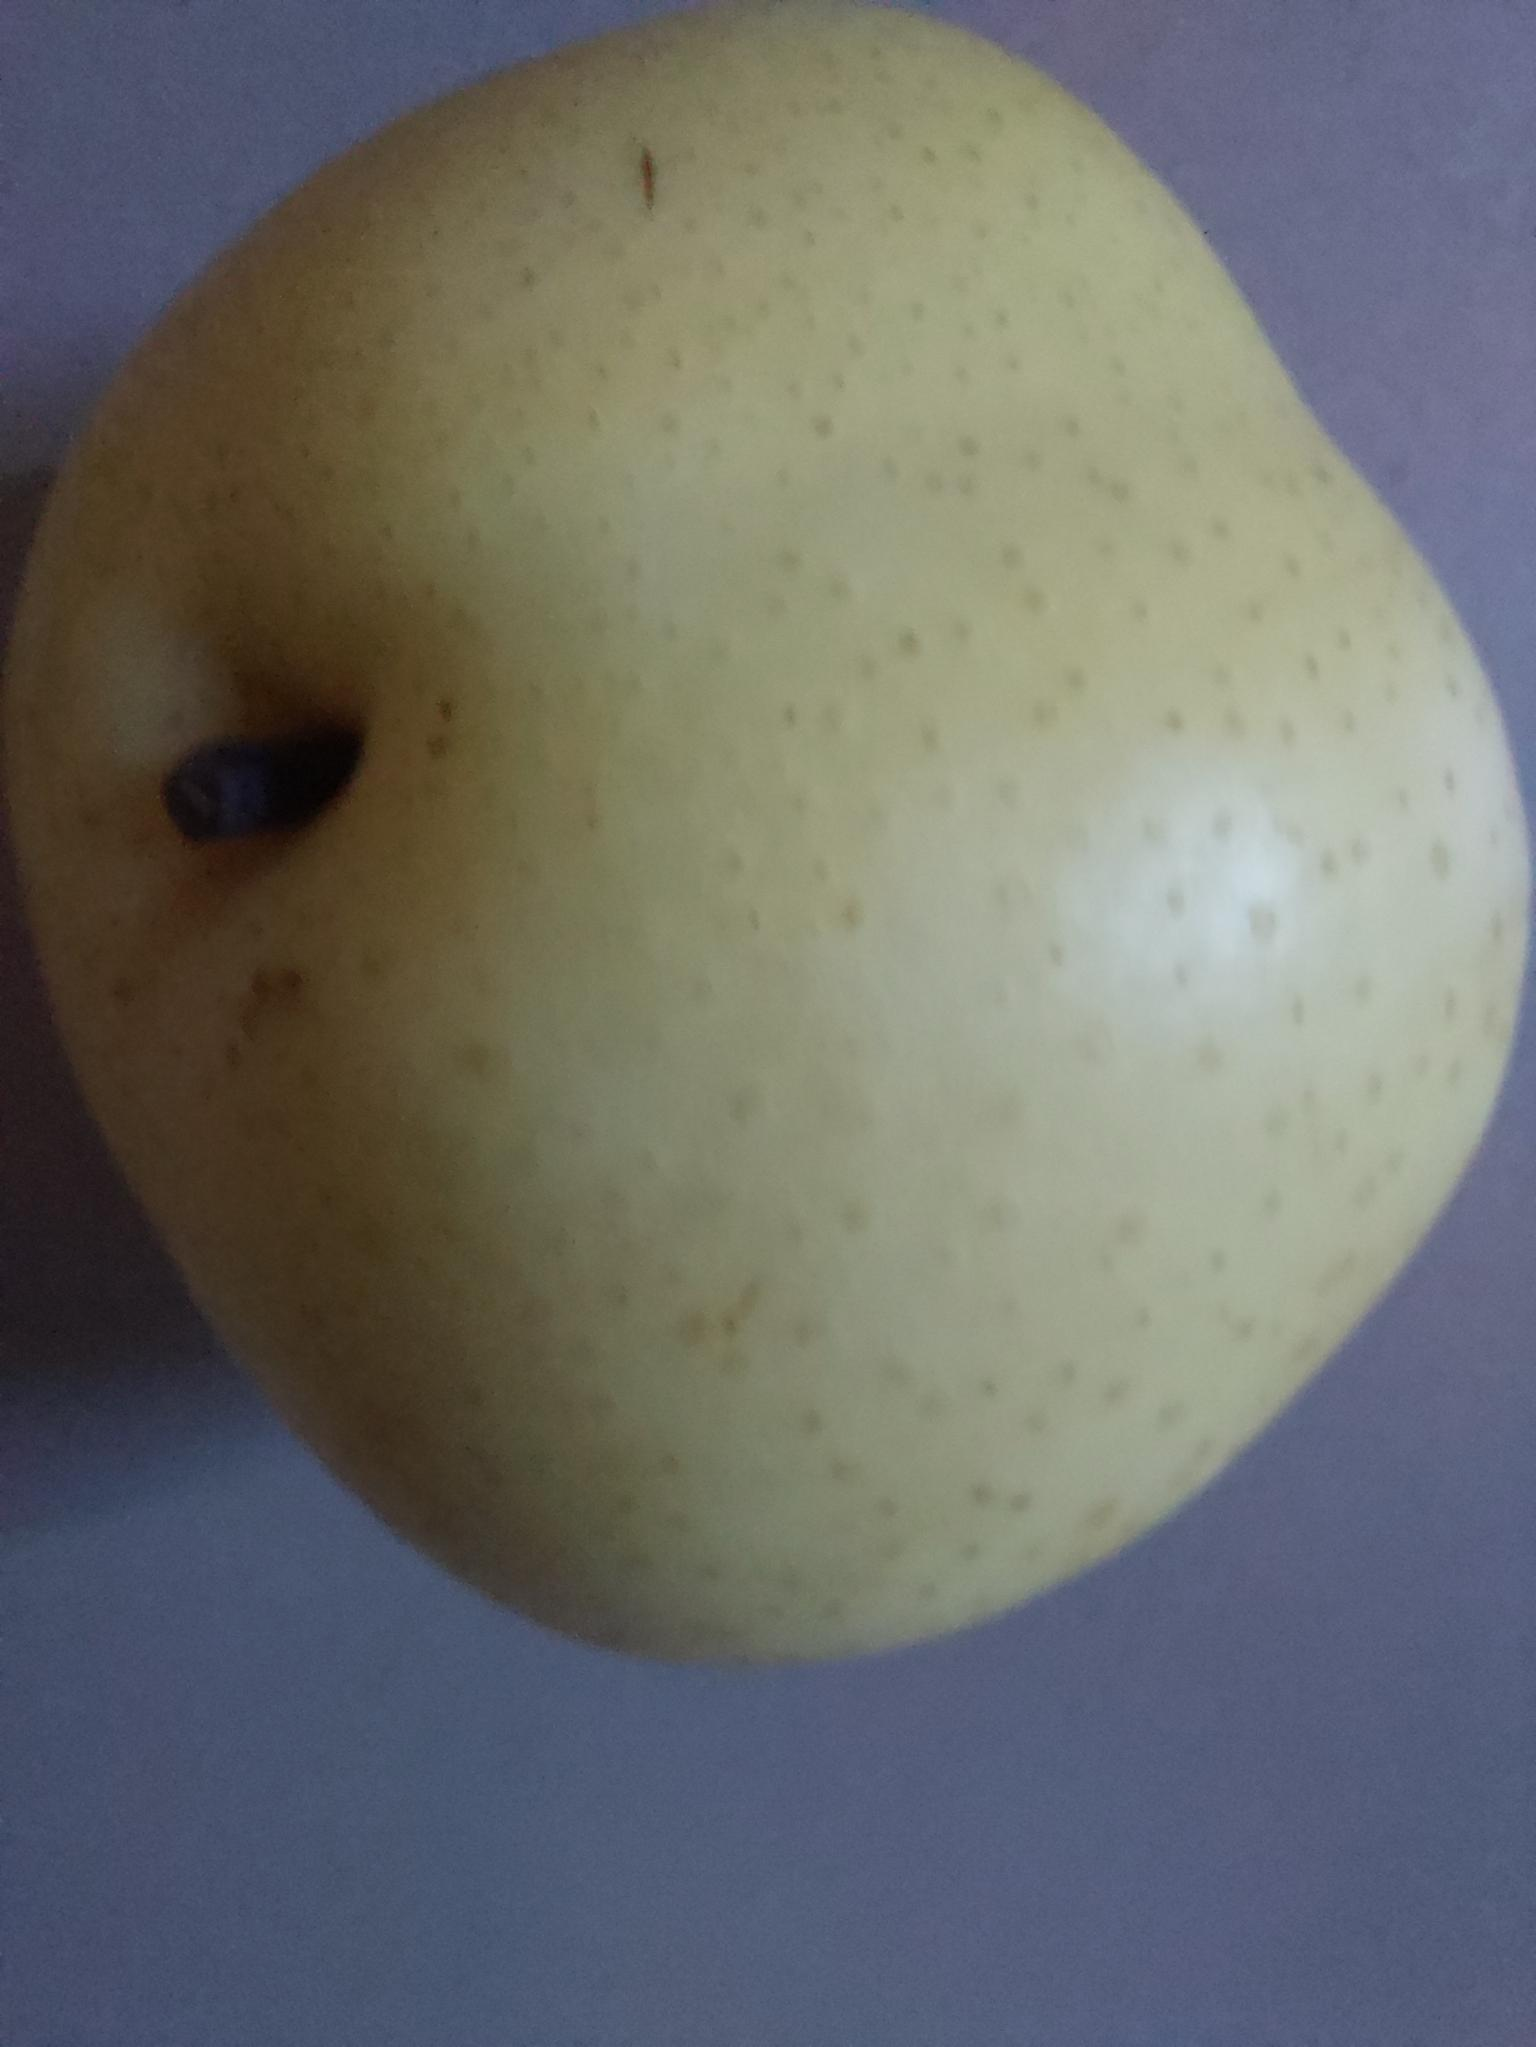Good Pear: (19, 29, 1536, 1747)
